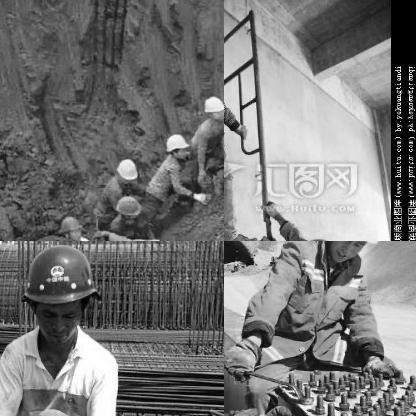Helmet: (18, 241, 103, 354), (316, 241, 394, 263), (113, 194, 145, 223), (56, 213, 84, 240), (162, 132, 188, 160), (201, 93, 223, 125), (116, 154, 139, 184)
